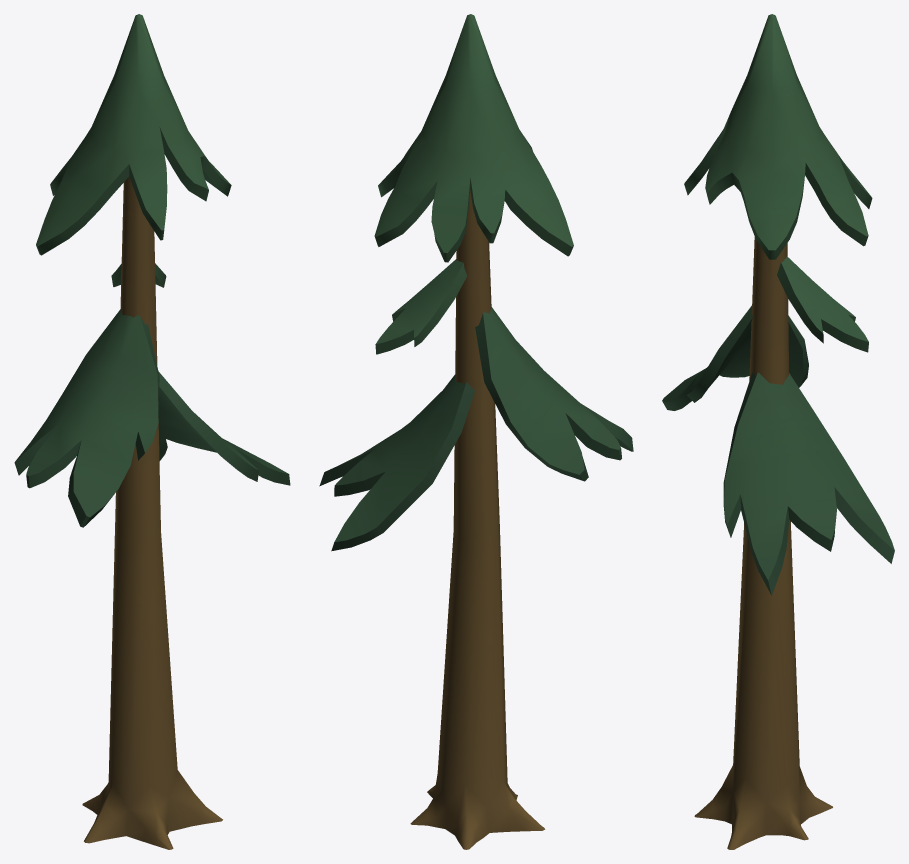
File: SM_Spruce_E.fbx
3 views of the same model, side by side, from view 1: azimuth 30°, elevation 25°; view 2: azimuth 150°, elevation 25°; view 3: azimuth 270°, elevation 25° (orthographic).
Parts seen in each view (by area): view 1: SM_Spruce_E; view 2: SM_Spruce_E; view 3: SM_Spruce_E.
Part boxes in pixels (x1=…): SM_Spruce_E: x1=14, y1=14, x2=290, y2=849; SM_Spruce_E: x1=319, y1=14, x2=633, y2=849; SM_Spruce_E: x1=662, y1=14, x2=894, y2=849.
Size of the model in its own units: 320 by 875 by 229.
